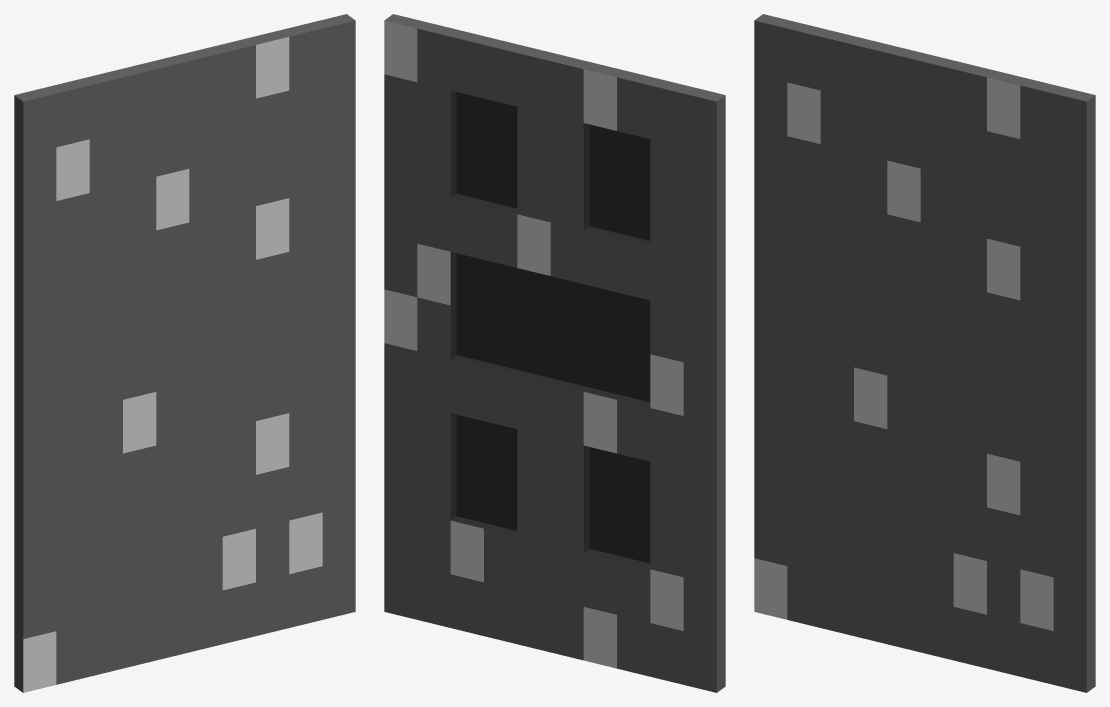
The model's file is SlidingDoor.fbx.
3 views of the same model, side by side, from view 1: azimuth 30°, elevation 25°; view 2: azimuth 150°, elevation 25°; view 3: azimuth 330°, elevation 25° (orthographic).
Parts seen in each view (by area): view 1: SlidingDoor; view 2: SlidingDoor; view 3: SlidingDoor.
Boxes of the visible parts, box(x1,y1,x2,y2) form: SlidingDoor: box(14, 14, 355, 692); SlidingDoor: box(384, 14, 725, 692); SlidingDoor: box(754, 14, 1095, 692).
Bounding box in the file's own units: 103 × 175 × 4.8.
